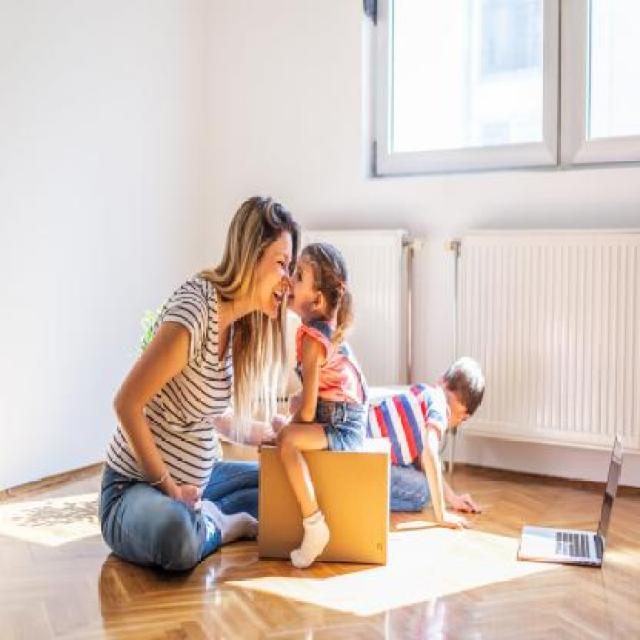cardboxes: (257, 431, 392, 569)
